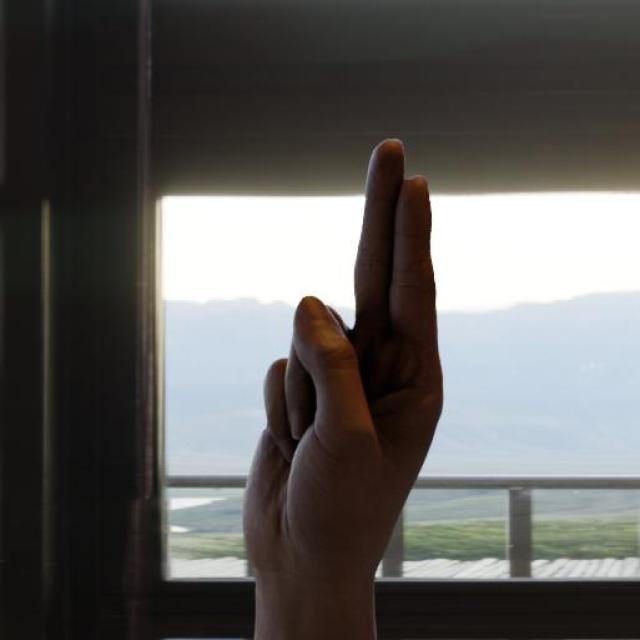U: (238, 132, 453, 597)
